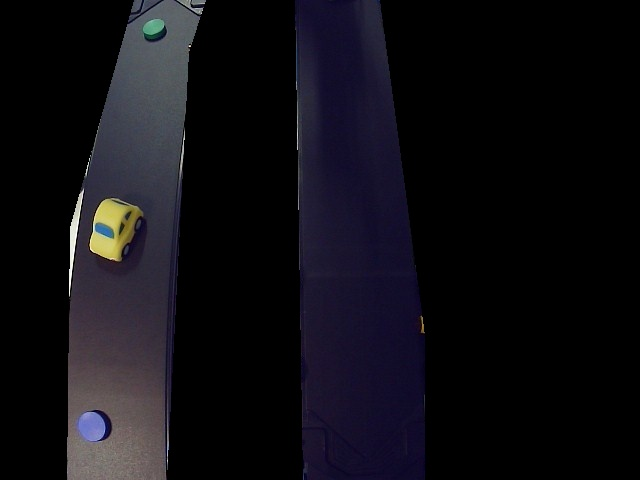Blue_Circle: (77, 410, 111, 440)
Green_Circle: (141, 17, 165, 41)
Unknown: (89, 197, 145, 264)
